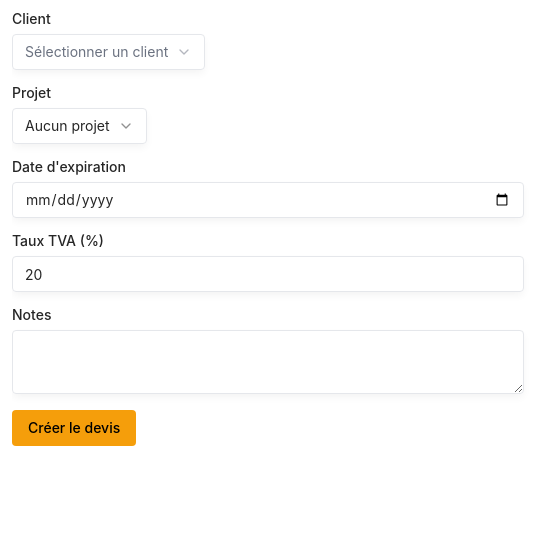
Test: QuoteForm › T7 — create contact visible: Select contact affiché après sélection client
Click the dropdown with test id "quote-clientId-select". click: (109, 52)
box: [12,34,205,70]
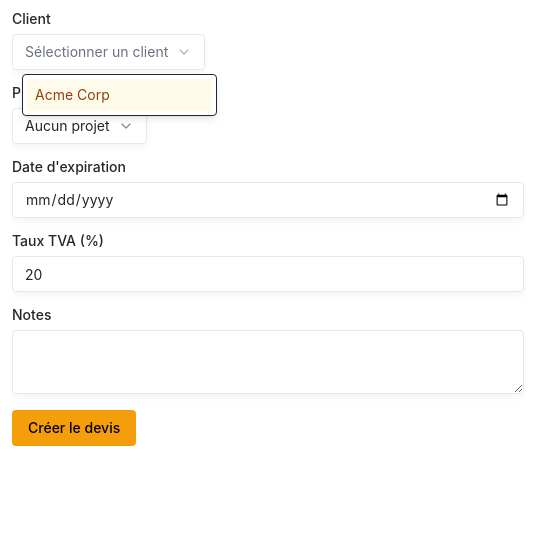
Now the option "Acme Corp" is shown
Click the option "Acme Corp". click: (120, 95)
box: [27,79,212,111]
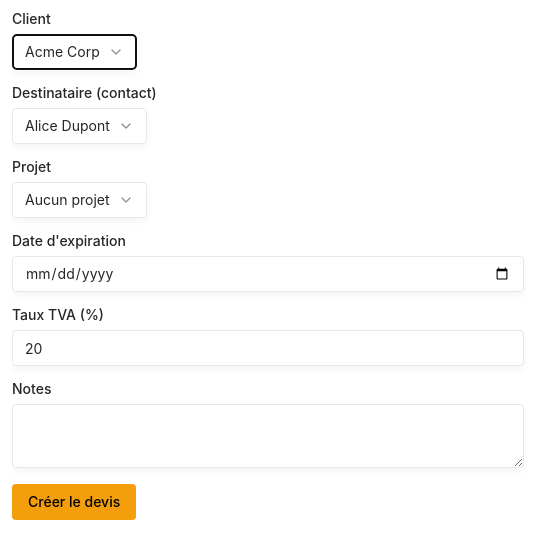
Now the dropdown with test id "quote-contactId-select" is shown, box [12,108,147,144]
